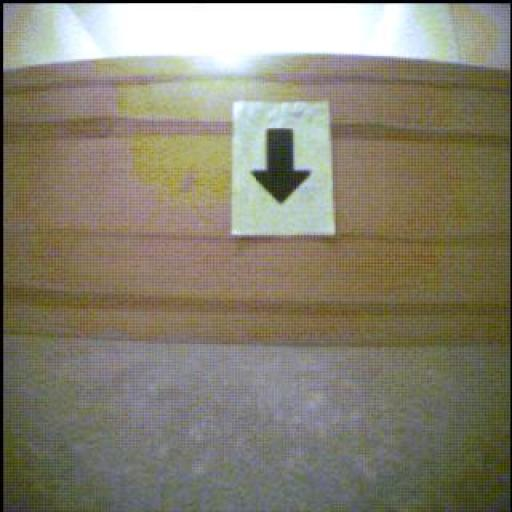Arrow: (254, 129, 311, 204)
